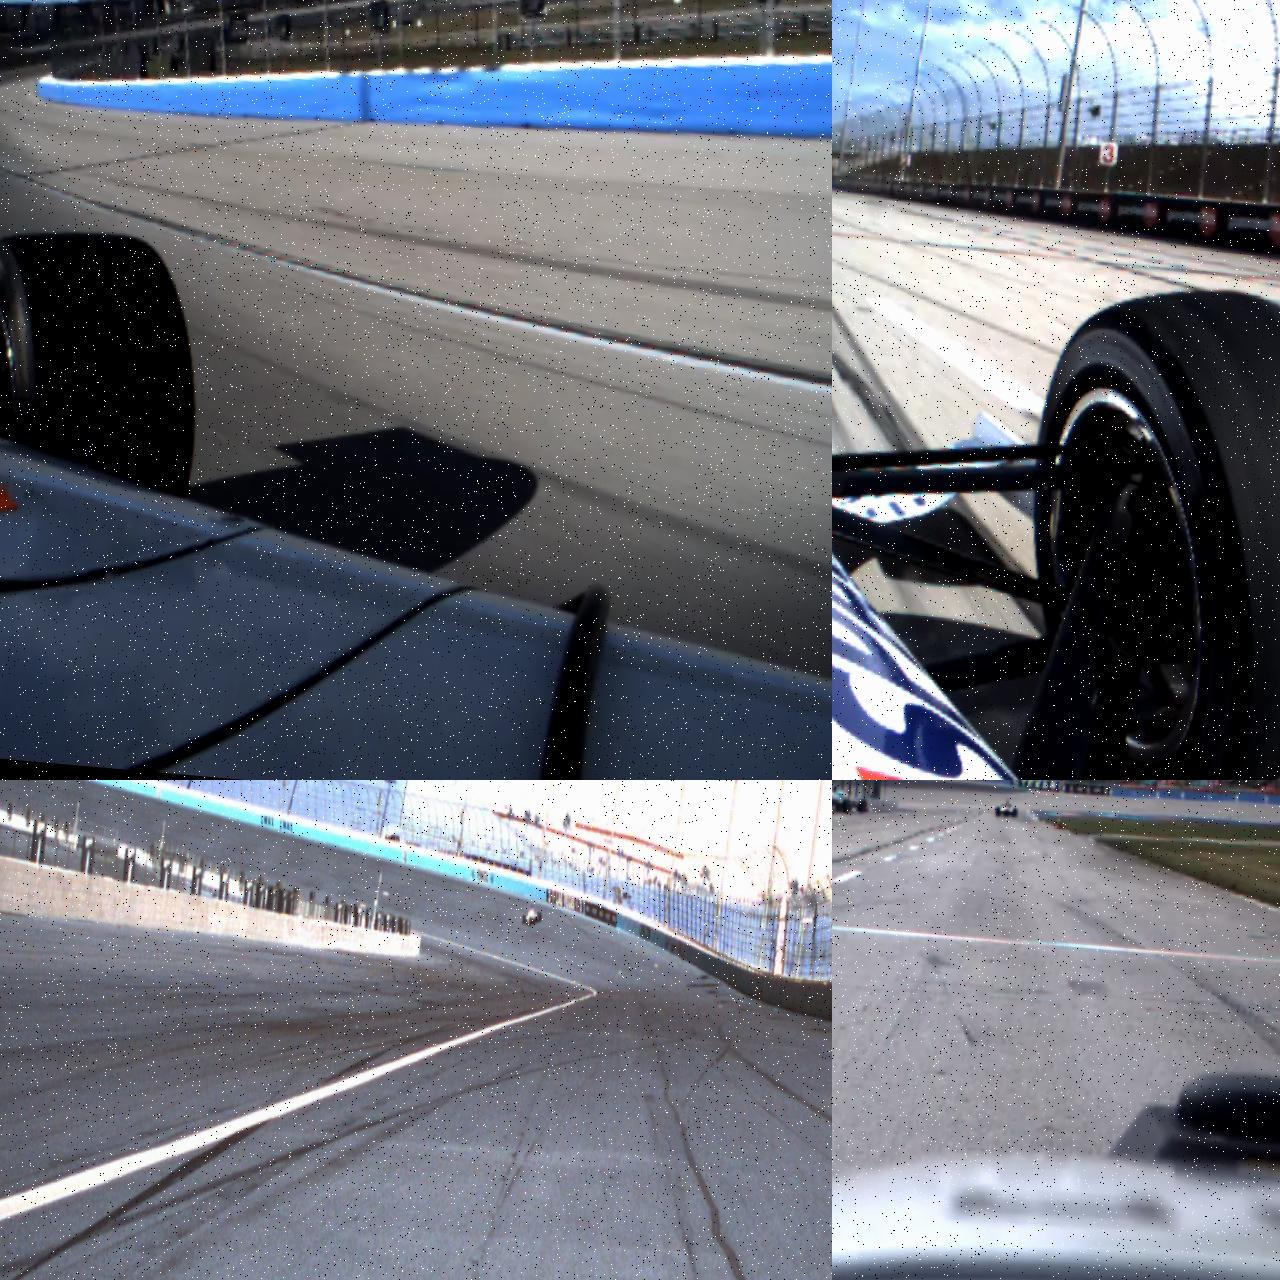AV: (520, 905, 543, 926), (995, 798, 1019, 818)
Wheel: (1006, 275, 1280, 779), (0, 217, 213, 501), (842, 799, 852, 813), (858, 799, 867, 813), (537, 912, 542, 922), (995, 806, 1001, 815), (1013, 808, 1017, 817), (529, 917, 532, 926), (522, 915, 525, 925)
